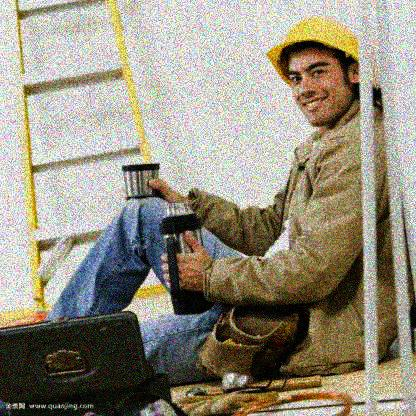helmet: (264, 15, 361, 129)
